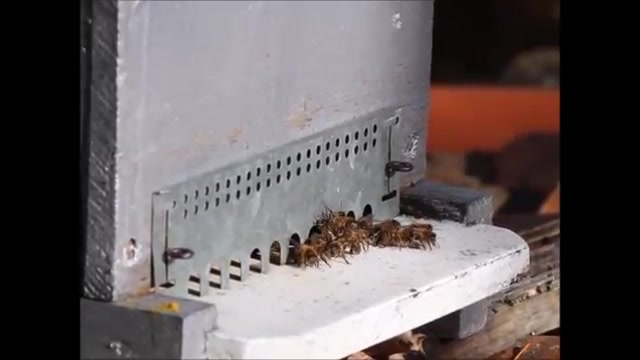bee: (407, 225, 440, 245), (291, 249, 322, 267), (330, 218, 365, 233), (328, 240, 347, 260)
